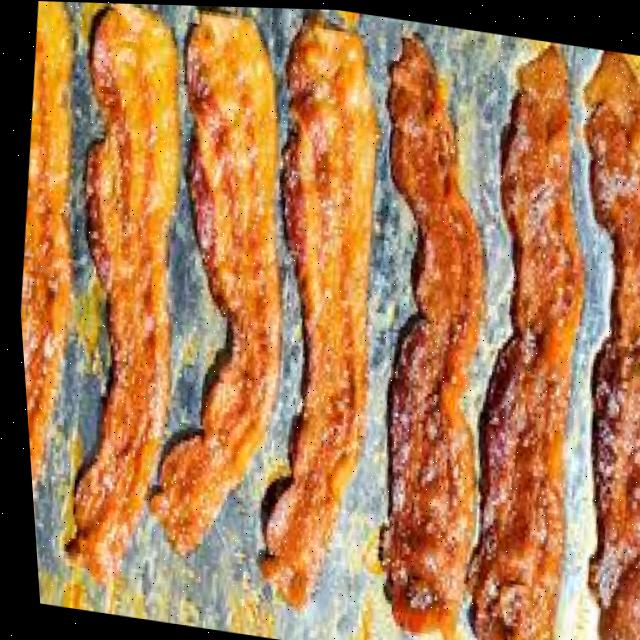Bacon: (253, 15, 375, 608), (142, 10, 275, 550), (460, 45, 579, 640), (57, 3, 176, 581), (372, 40, 478, 637), (580, 48, 640, 640), (17, 1, 71, 496)
